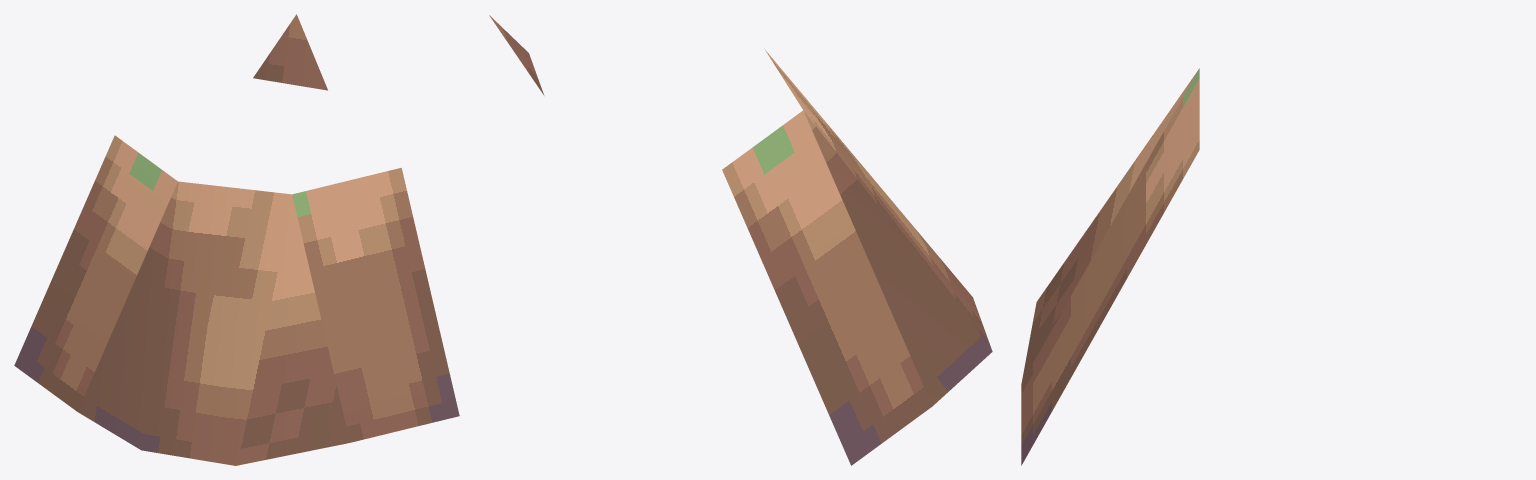
3 views of the same model, side by side, from view 1: azimuth 30°, elevation 25°; view 2: azimuth 150°, elevation 25°; view 3: azimuth 270°, elevation 25° (orthographic). The views are drawn at different scales.
Bounding box in the file's own units: 1.29 × 1.23 × 1.29.
Materials: 1 (1 with a texture image).
